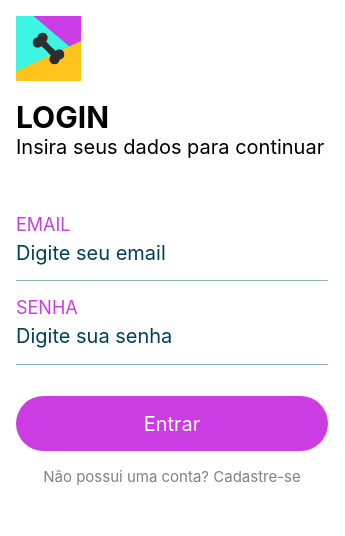
it: Login Screen › it rendering error messages when submit wrong form
Type "user@exemplo.com.br" into the field with test id "emailInput".
click(172, 261); type("user@exemplo.com.br")  # box [16,241,328,281]
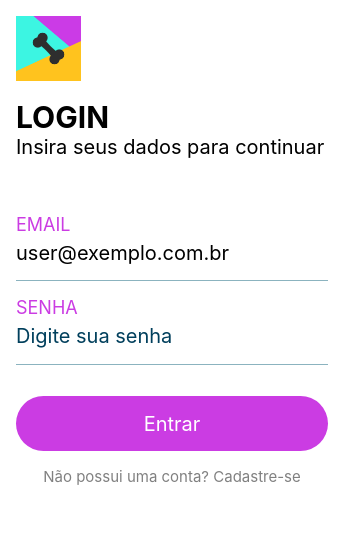
Type "1234566" into the password field with test id "passwordInput".
click(172, 345); type("1234566")  # box [16,324,328,365]
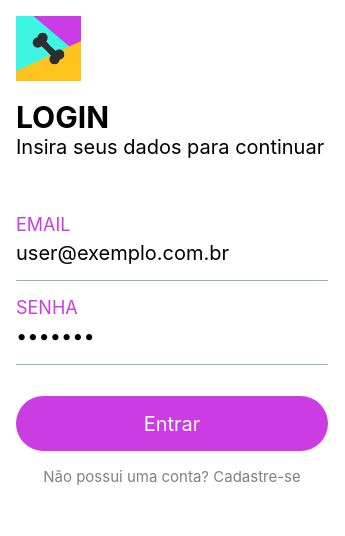
Click the element with test id "ButtonSubmit".
click(172, 424)  # box [16,396,328,451]
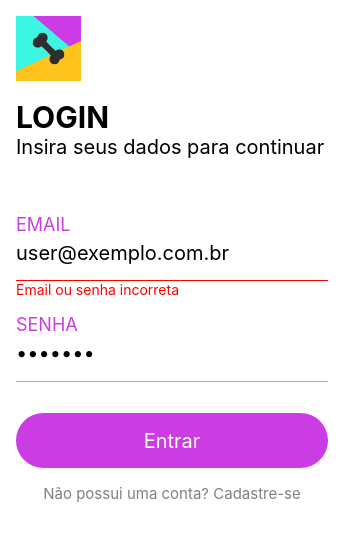
Now the text "Email ou senha incorreta" is shown, box [16,281,179,298]
Replace the text in the field with test id "emailInput" with "user@exemplo." at (172, 261), box [16,241,328,281]
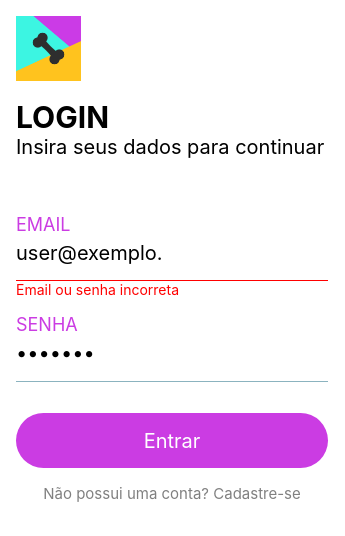
Type "12345" into the password field with test id "passwordInput".
click(172, 362); type("12345")  # box [16,341,328,382]
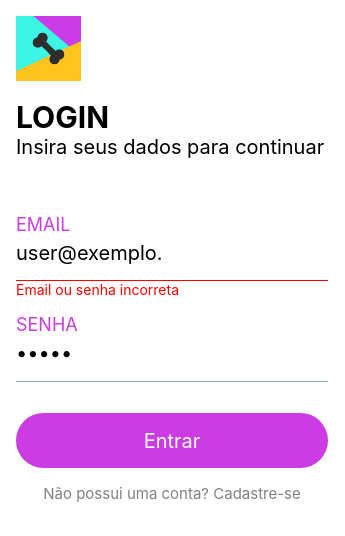
Click the element with test id "ButtonSubmit".
click(172, 441)  # box [16,413,328,468]
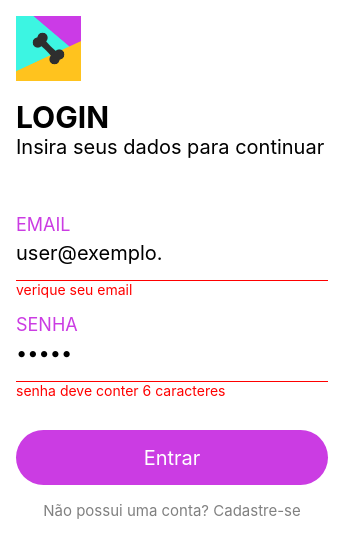
Now the text "senha deve conter 6 caracteres" is shown, box [16,382,226,399]
Now the text "verique seu email" is shown, box [16,281,132,298]
